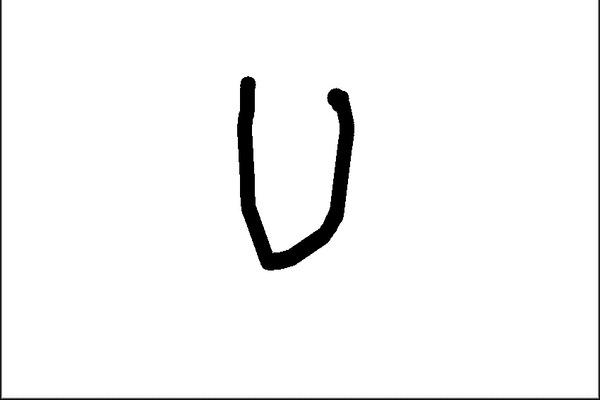U: (229, 68, 369, 276)
